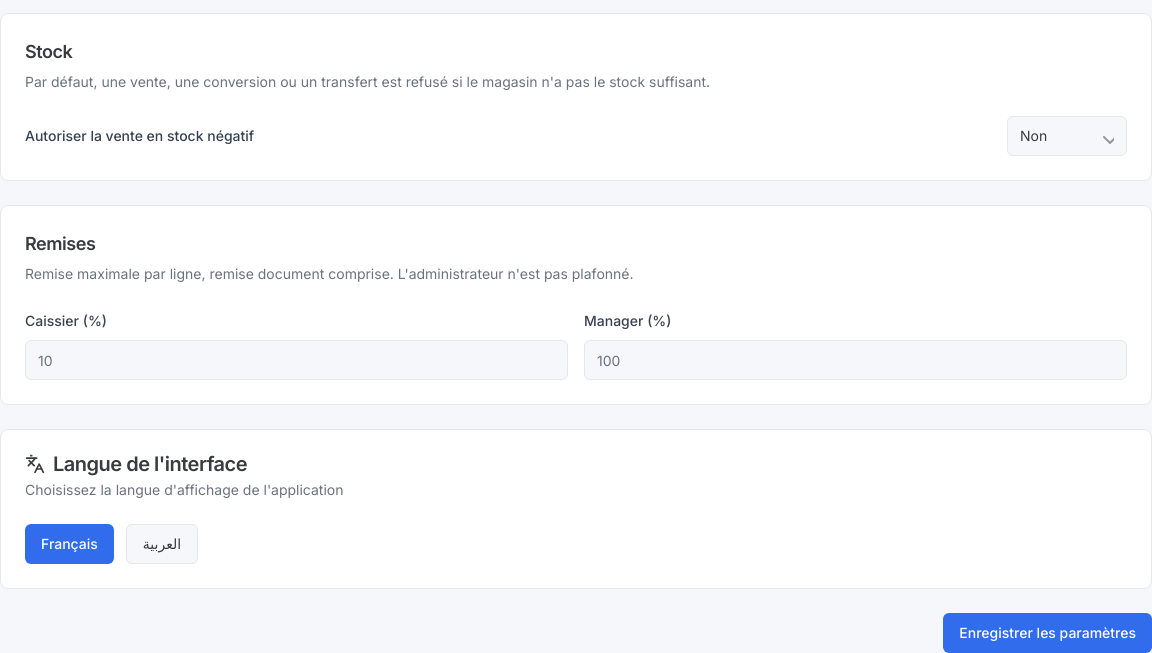
Settings › rejects an invalid ICE
(page scrolled)
Click the button "Enregistrer les paramètres" at (1048, 633), box [943,613,1151,652]
(page scrolled)
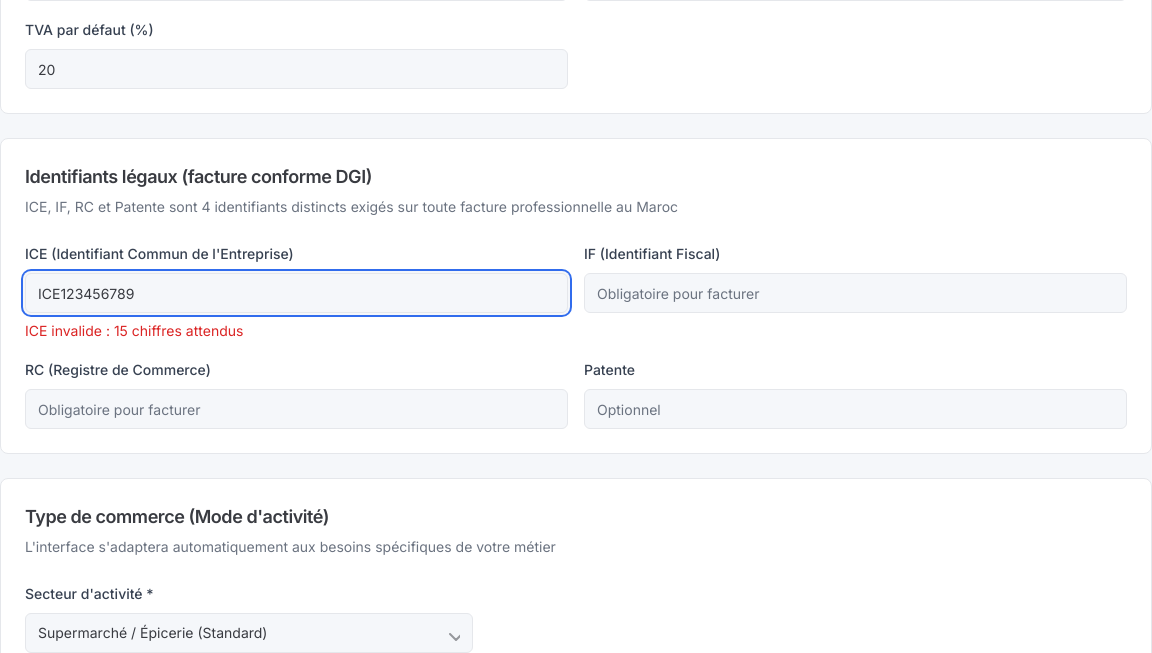
Result: the text "ICE invalide : 15 chiffres attendus" is shown at [25,322,243,339]
